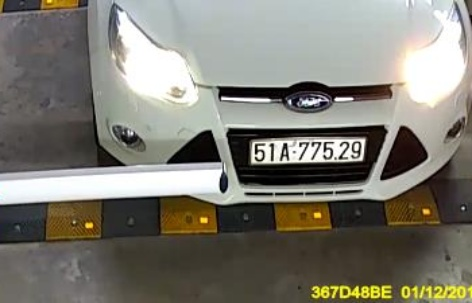plate: (249, 134, 367, 167)
